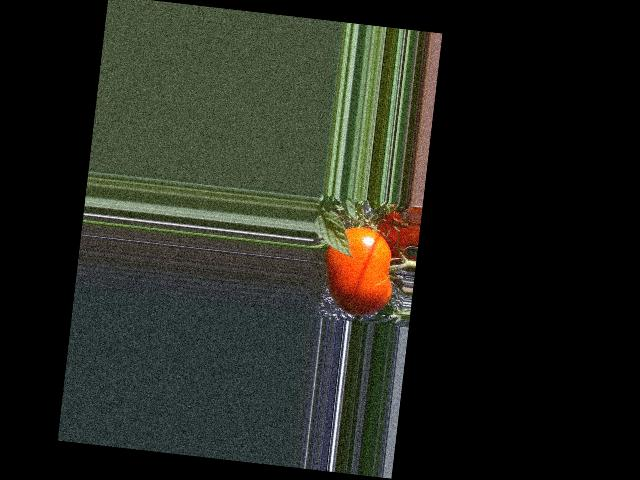tomato: (319, 223, 398, 318)
